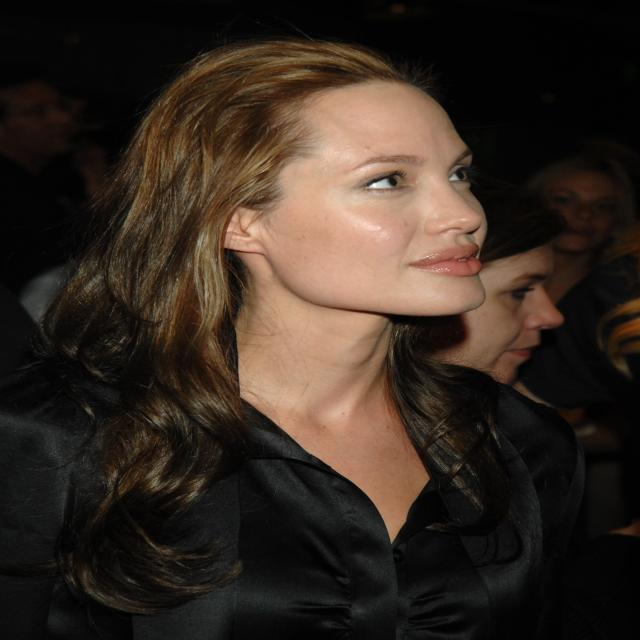earlobe: (202, 188, 259, 253)
